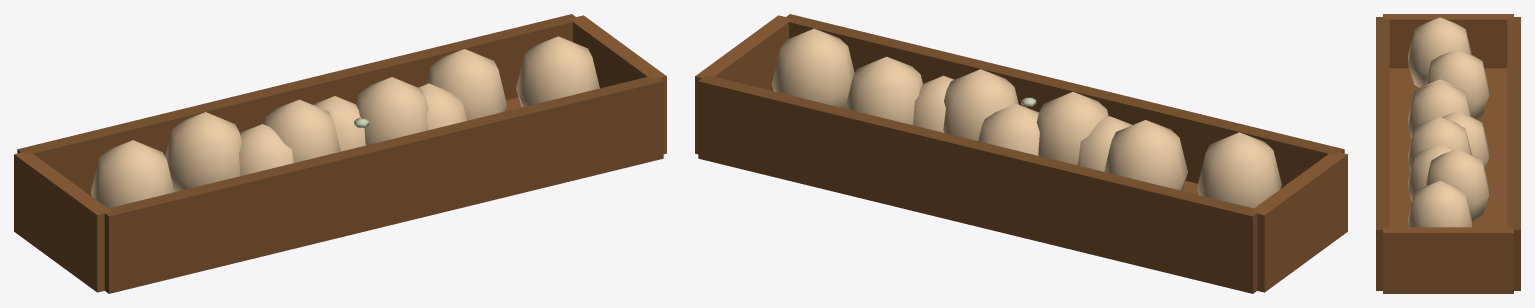
The model's file is Ranch_ChickenEgg.fbx.
3 renders of one model, left to right at view 1: azimuth 30°, elevation 25°; view 2: azimuth 150°, elevation 25°; view 3: azimuth 270°, elevation 25°, orthographic. The views are drawn at different scales.
Visible parts, largest first — view 1: Ranch_ChickenEgg__Stack, Ranch_ChickenEgg; view 2: Ranch_ChickenEgg__Stack, Ranch_ChickenEgg; view 3: Ranch_ChickenEgg__Stack, Ranch_ChickenEgg.
Part boxes in pixels (x1,y1,x2,y2): Ranch_ChickenEgg__Stack: [14, 14, 666, 293]; Ranch_ChickenEgg: [239, 83, 466, 175]; Ranch_ChickenEgg__Stack: [695, 14, 1347, 293]; Ranch_ChickenEgg: [913, 75, 1132, 171]; Ranch_ChickenEgg__Stack: [1376, 14, 1520, 293]; Ranch_ChickenEgg: [1408, 79, 1488, 201].
Size of the model in its own units: 0.308 by 0.056 by 0.086.
